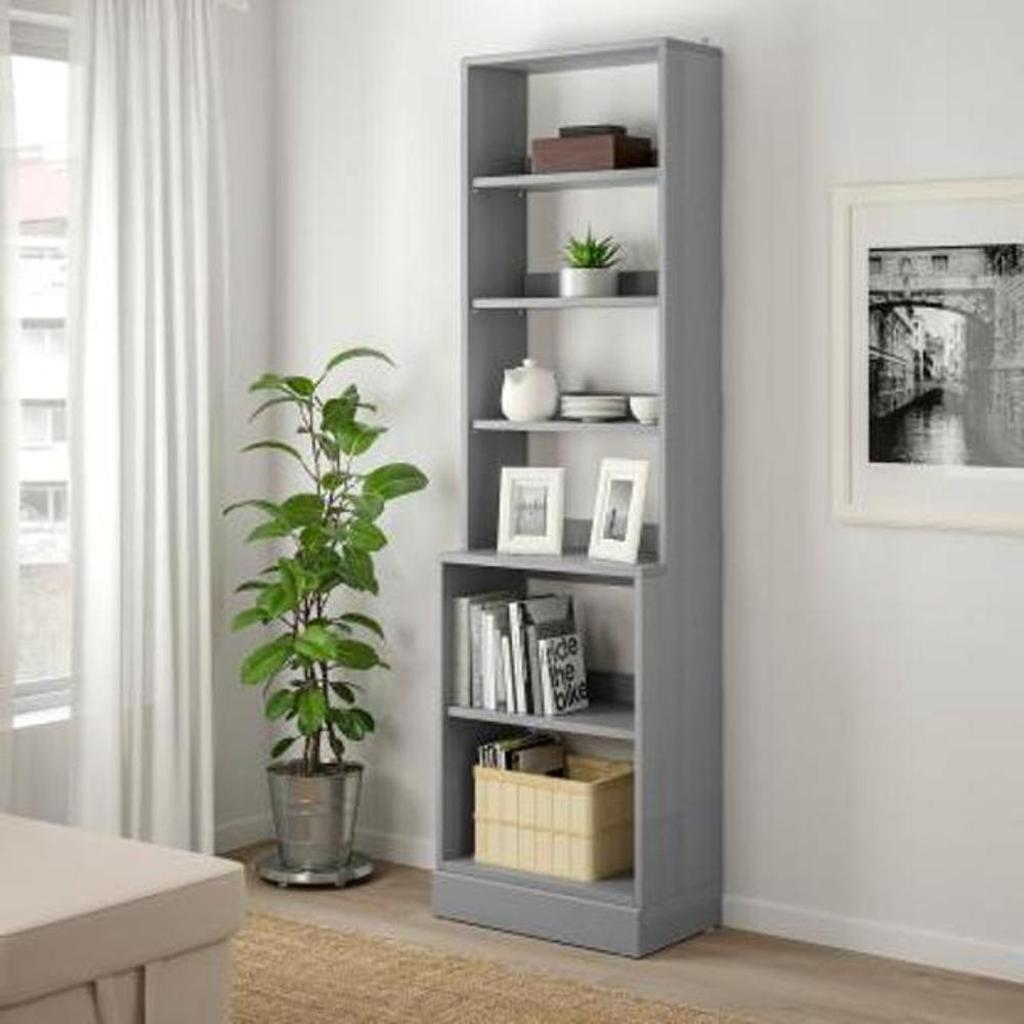lamp: (425, 34, 727, 966)
